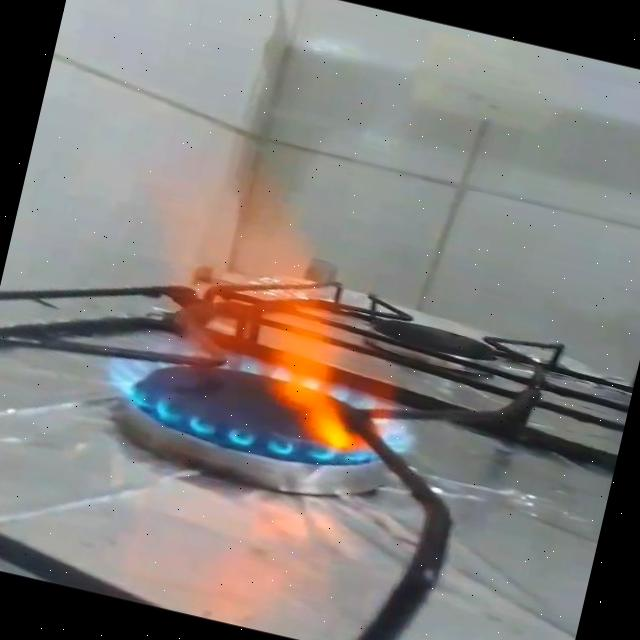fire: (84, 114, 477, 492)
